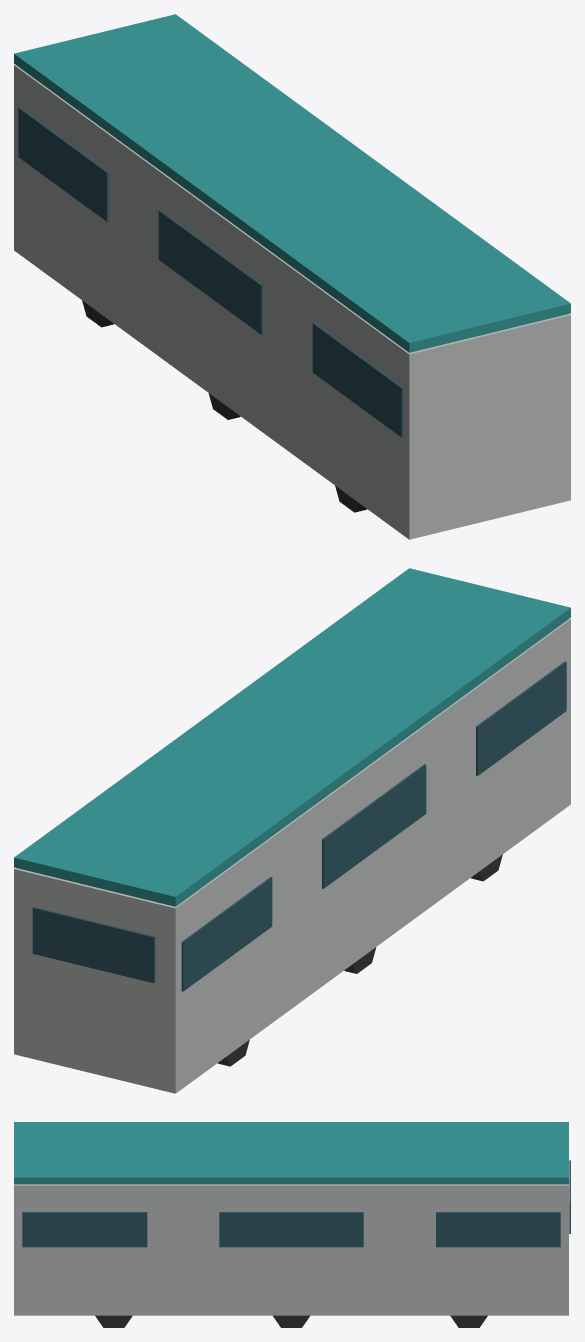
Rendered from subway_far.glb.
3 views of the same model, one above another, from view 1: azimuth 30°, elevation 25°; view 2: azimuth 150°, elevation 25°; view 3: azimuth 270°, elevation 25° (orthographic). The views are drawn at different scales.
Parts seen in each view (by area): view 1: SubwayModel traffic_metal, Teal roof, SubwayModel traffic_glass, SubwayModel traffic_rubber; view 2: SubwayModel traffic_metal, Teal roof, SubwayModel traffic_glass, SubwayModel traffic_rubber; view 3: SubwayModel traffic_metal, Teal roof, SubwayModel traffic_glass, SubwayModel traffic_rubber.
Part boxes in pixels (bbox=[...]): SubwayModel traffic_metal: bbox=[14, 65, 570, 539]; Teal roof: bbox=[14, 14, 570, 352]; SubwayModel traffic_glass: bbox=[18, 107, 403, 437]; SubwayModel traffic_rubber: bbox=[82, 300, 366, 512]; SubwayModel traffic_metal: bbox=[14, 619, 570, 1093]; Teal roof: bbox=[14, 568, 570, 906]; SubwayModel traffic_glass: bbox=[32, 661, 566, 991]; SubwayModel traffic_rubber: bbox=[218, 854, 502, 1066]; SubwayModel traffic_metal: bbox=[14, 1184, 568, 1315]; Teal roof: bbox=[14, 1122, 568, 1184]; SubwayModel traffic_glass: bbox=[22, 1160, 570, 1247]; SubwayModel traffic_rubber: bbox=[95, 1315, 487, 1327].
Bounding box in the file's own units: 2.66 × 3.36 × 11.05.
